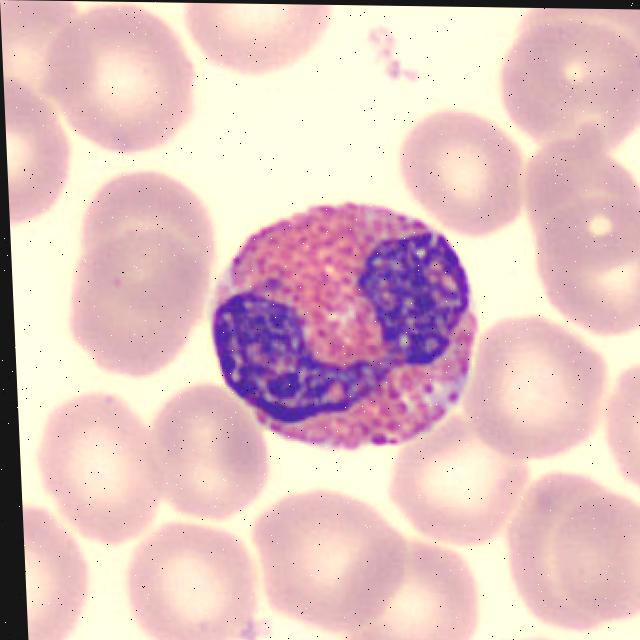eosinophil: (207, 186, 489, 460)
rbc: (258, 493, 413, 638), (47, 2, 196, 152), (503, 465, 634, 635), (65, 224, 203, 376), (77, 166, 226, 306), (473, 313, 607, 463), (492, 26, 640, 156), (388, 105, 525, 243), (388, 415, 529, 549), (37, 391, 161, 540), (118, 513, 260, 640), (514, 128, 640, 264), (528, 189, 640, 331), (337, 528, 477, 640), (143, 383, 266, 508), (0, 0, 101, 129), (174, 3, 348, 76), (554, 483, 640, 620), (511, 8, 640, 99), (4, 80, 80, 228), (22, 495, 98, 640), (608, 358, 640, 505), (480, 627, 587, 640), (618, 623, 640, 640)
